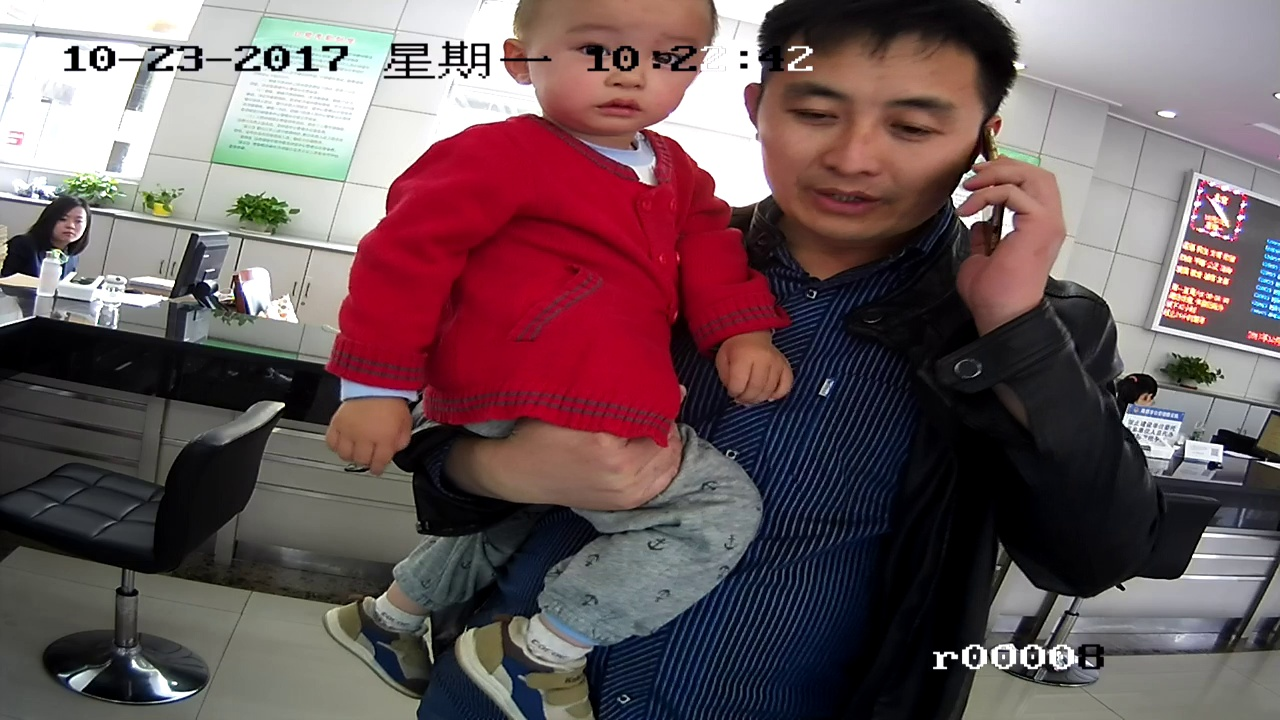chair: (11, 421, 309, 702)
monitor: (1166, 170, 1280, 364)
person: (753, 9, 1087, 555), (466, 6, 739, 180), (19, 195, 91, 269)
pot: (1161, 346, 1215, 399), (232, 198, 291, 234), (140, 186, 182, 231)
